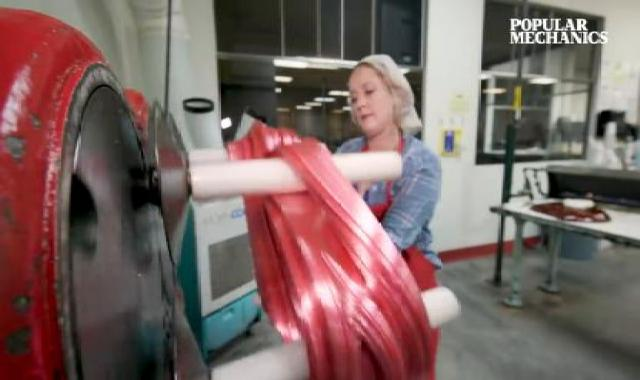hairnet: (345, 54, 432, 142)
